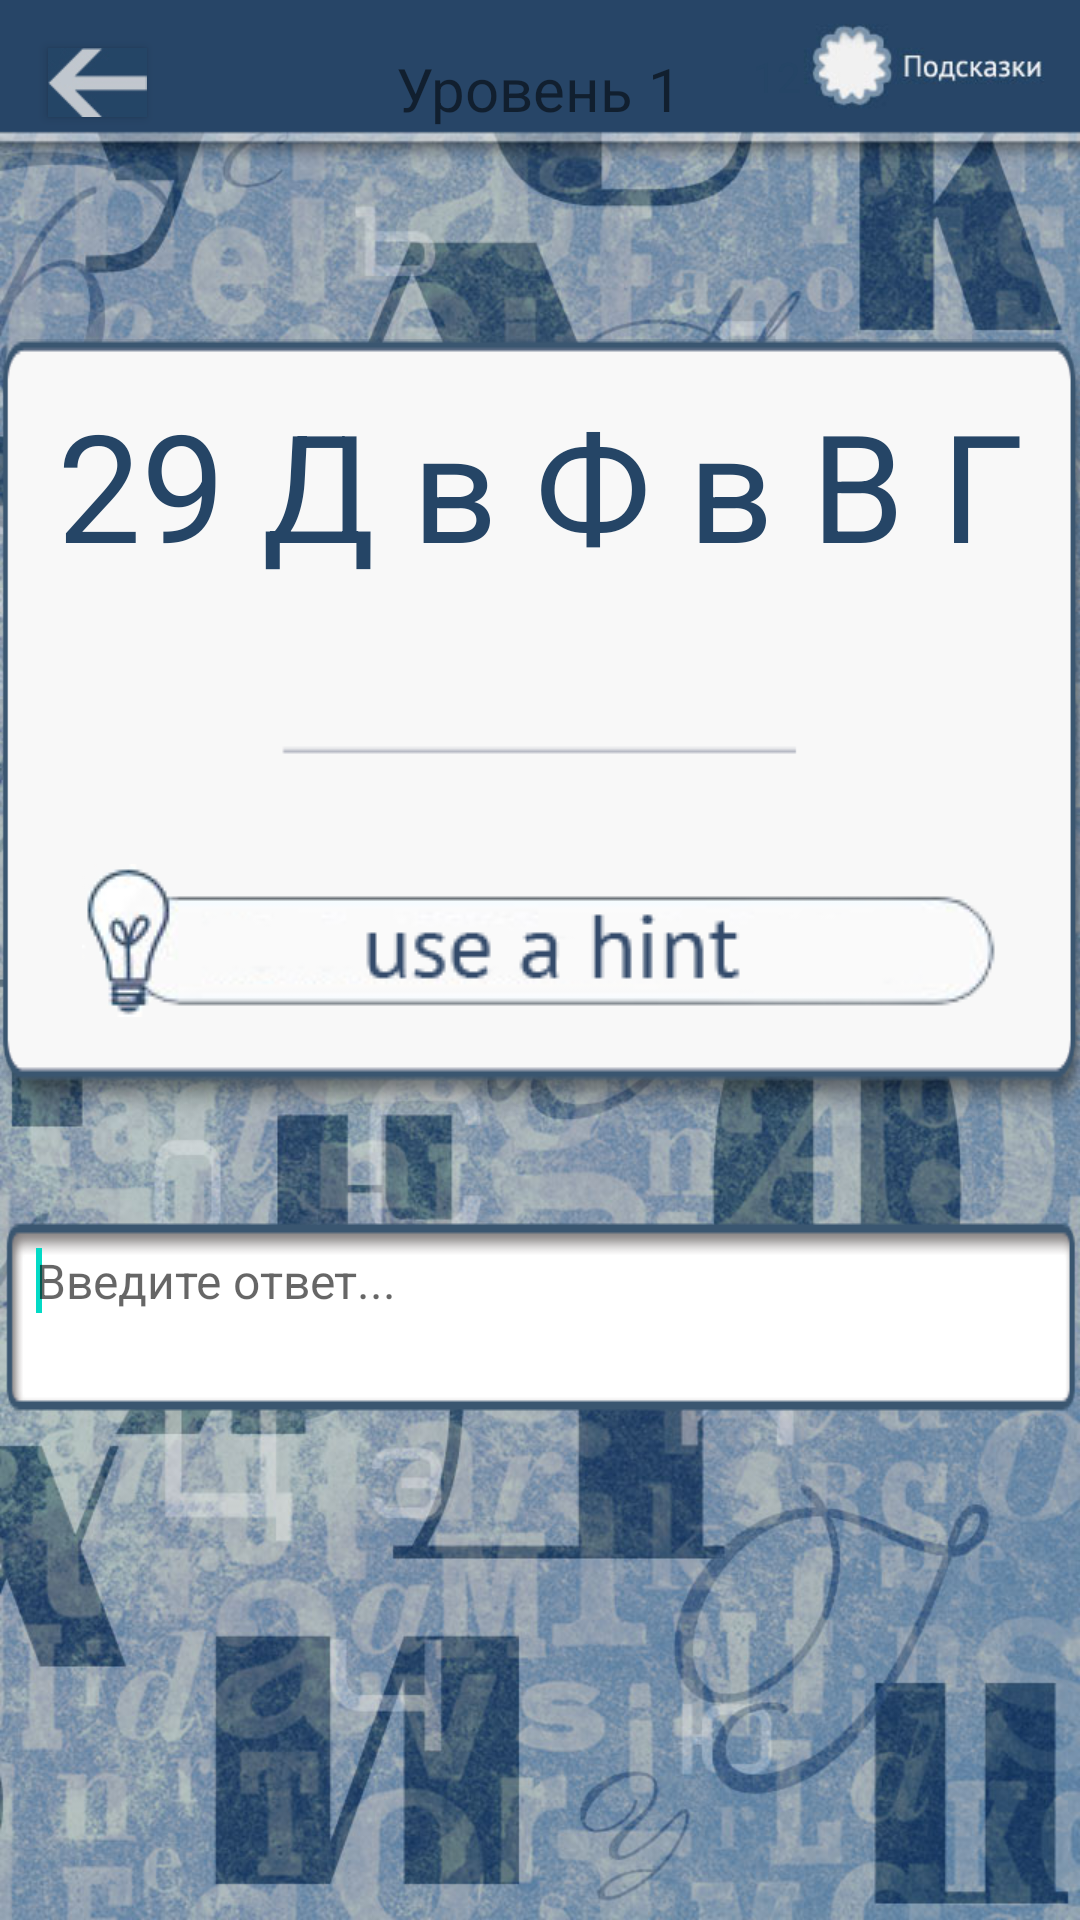

Point at icon controls on the screen. Image size 1080px x 1920px, points as (x,y).
arrow: (97,82)
